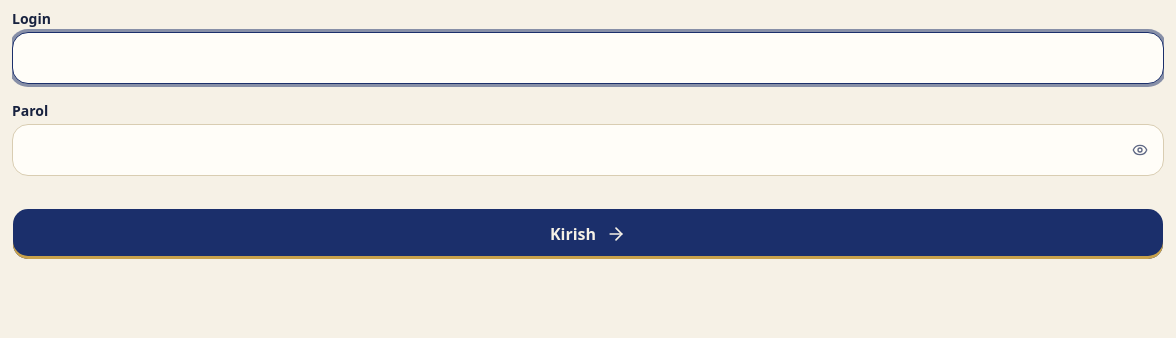
it: LoginForm › should show the backend message when the credentials are wrong
Type "admin" into the field labelled "Login". click: point(588, 58)
box: x1=12 y1=32 x2=1164 y2=84
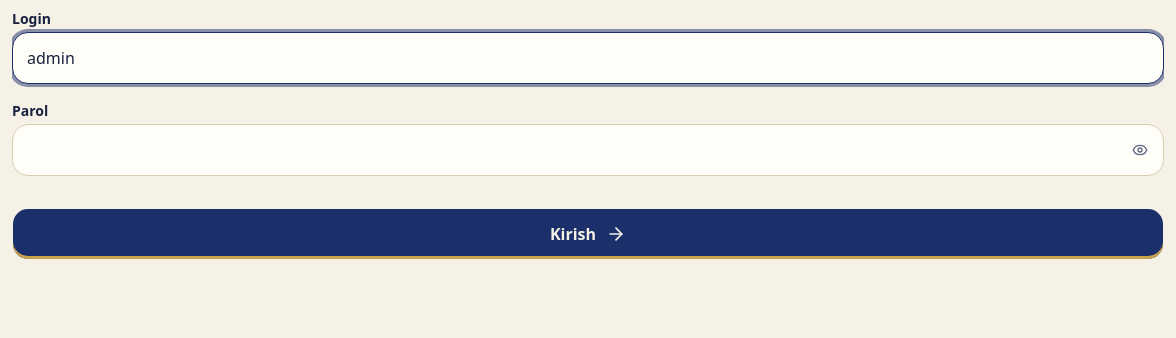
Type "wrong-pass" into the password field labelled "Parol". click: point(588, 150)
box: x1=12 y1=124 x2=1164 y2=176
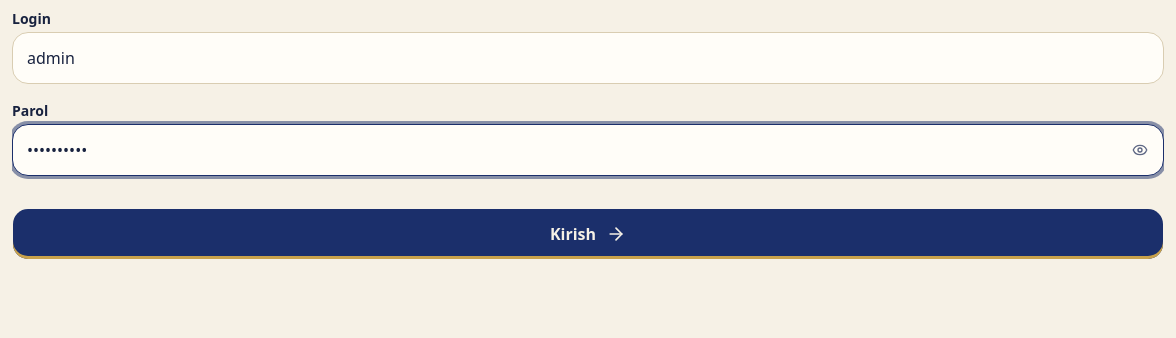
Click the button "Kirish". click: point(588, 234)
box: x1=12 y1=208 x2=1164 y2=260
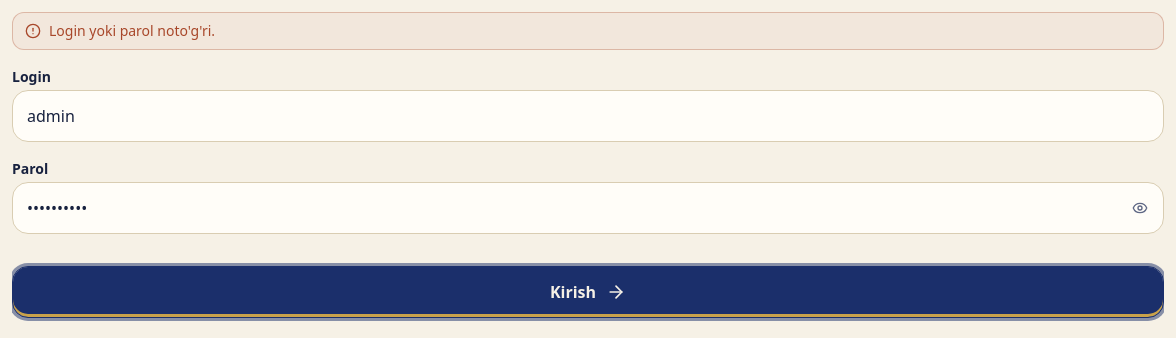
Expected: the message reads "Login yoki parol noto'g'ri.", x1=49 y1=21 x2=215 y2=40
